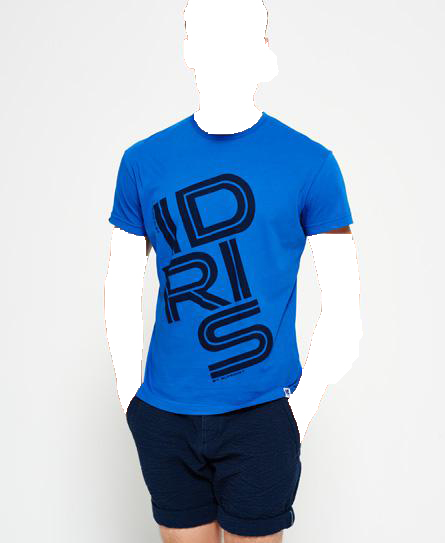teeshirt: (98, 112, 359, 414)
